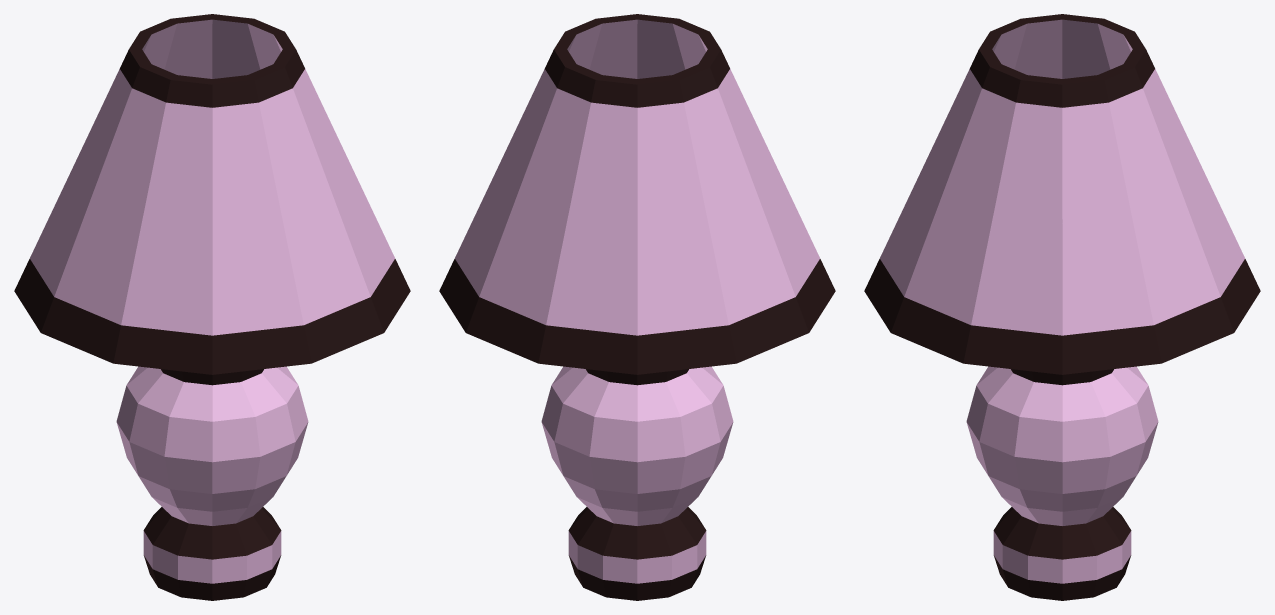
Rendered from lamp.fbx.
3 views of the same model, side by side, from view 1: azimuth 30°, elevation 25°; view 2: azimuth 150°, elevation 25°; view 3: azimuth 270°, elevation 25° (orthographic).
Visible parts, largest first — view 1: Cylinder; view 2: Cylinder; view 3: Cylinder.
Part boxes in pixels (left/top/right/bottom): Cylinder: left=14, top=14, right=410, bottom=600; Cylinder: left=439, top=14, right=835, bottom=600; Cylinder: left=864, top=14, right=1260, bottom=600.
Size of the model in its own units: 297 by 434 by 297.
